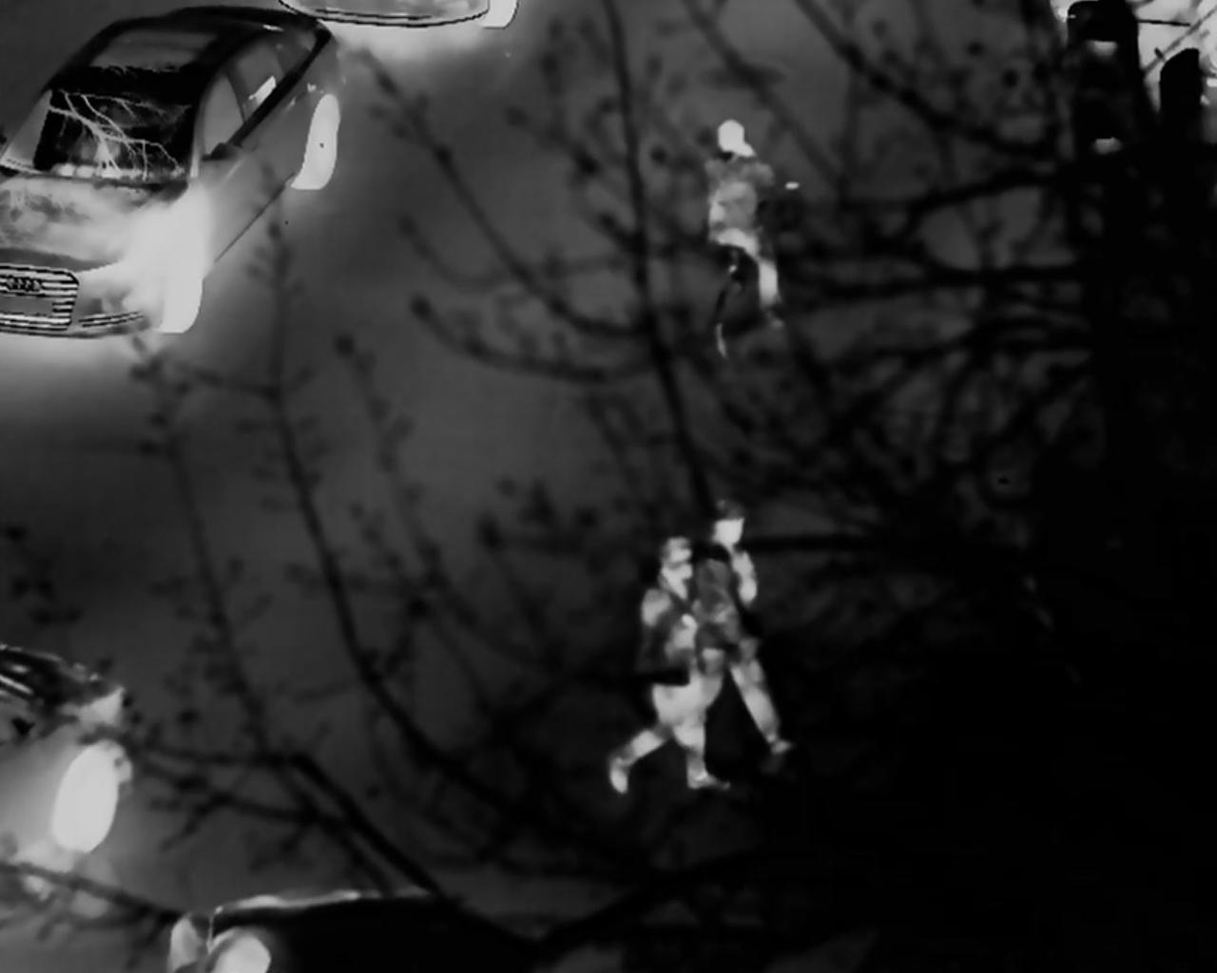person: (691, 495, 794, 754), (644, 540, 724, 785), (714, 123, 786, 328)
